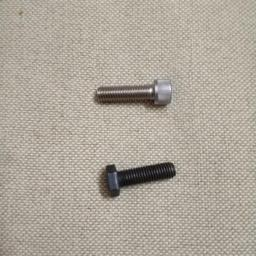screwtype1silver: (95, 77, 175, 108)
screwtype2black: (105, 162, 180, 196)
